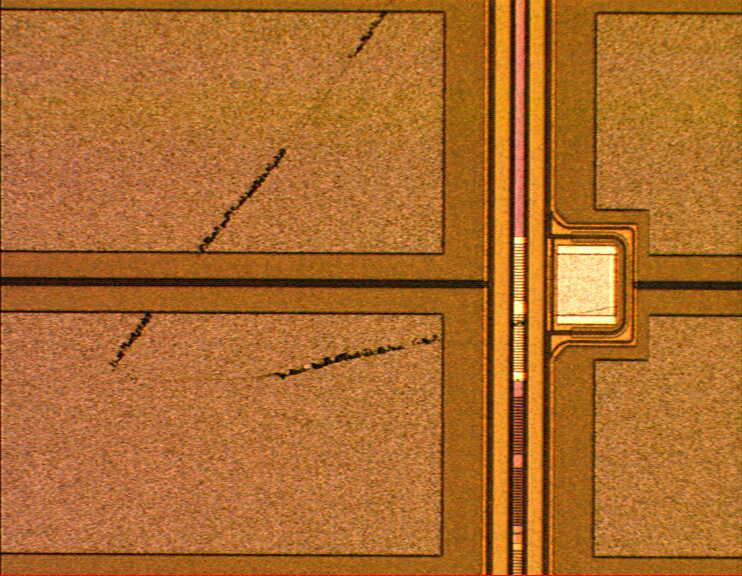SCRATCH: (94, 1, 663, 396)
